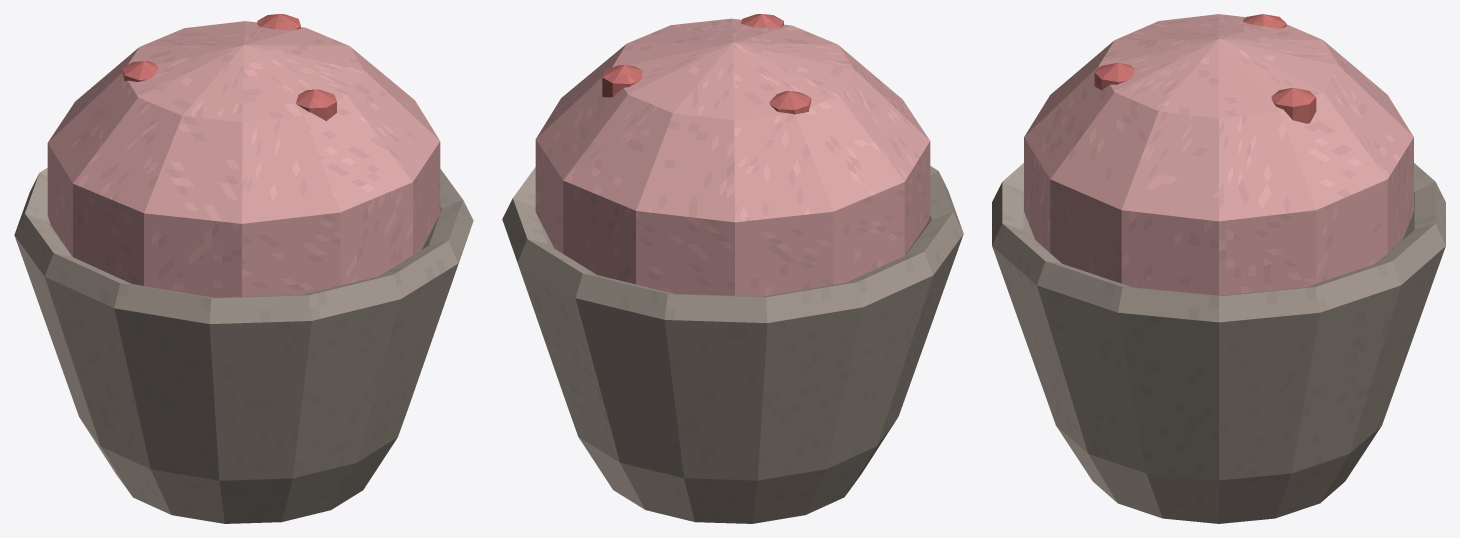
The model's file is icecream_fruit.glb.
3 views of the same model, side by side, from view 1: azimuth 30°, elevation 25°; view 2: azimuth 150°, elevation 25°; view 3: azimuth 270°, elevation 25° (orthographic).
Visible parts, largest first — view 1: block_frozen scoop, block_dessert dish, block_flavor and topping flecks (×3); view 2: block_frozen scoop, block_dessert dish, block_flavor and topping flecks (×2); view 3: block_dessert dish, block_frozen scoop, block_flavor and topping flecks (×2).
Boxes of the visible parts, x1,y1,x2,y2 form: block_frozen scoop: (47, 21, 440, 297); block_dessert dish: (14, 168, 473, 523); block_flavor and topping flecks (×3): (122, 14, 336, 120); block_frozen scoop: (535, 18, 930, 296); block_dessert dish: (502, 166, 963, 523); block_flavor and topping flecks (×2): (602, 65, 811, 114); block_dessert dish: (992, 163, 1445, 523); block_frozen scoop: (1024, 14, 1413, 295); block_flavor and topping flecks (×2): (1094, 63, 1316, 123).
Size of the model in its own units: 0.118 by 0.1203 by 0.1151.
Materials: 1 (1 with a texture image).
